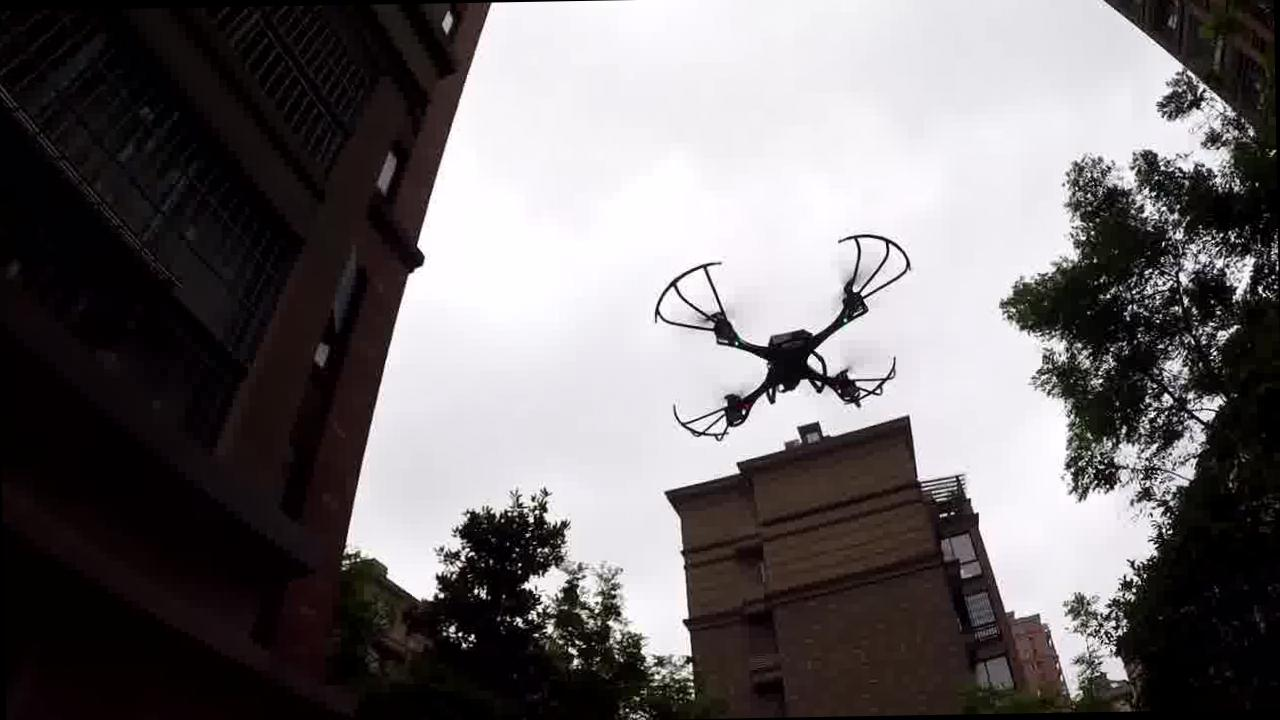drone: (646, 223, 924, 463)
